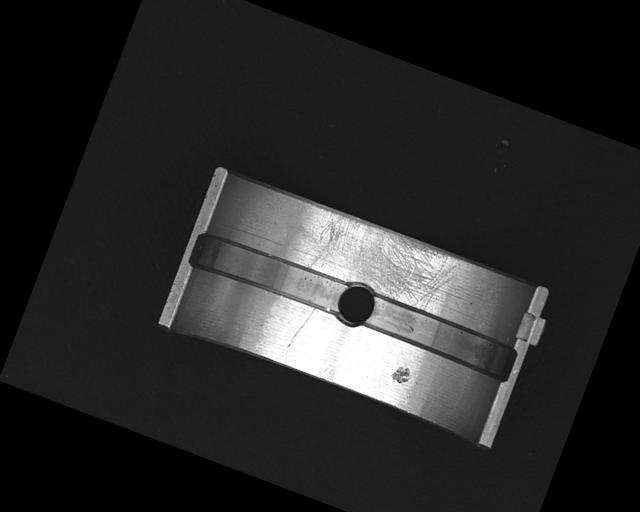bruise: (389, 362, 414, 387)
gap: (188, 228, 349, 319), (361, 293, 519, 382)
hole: (330, 277, 381, 331)
nick: (287, 303, 317, 352)
scratch: (291, 202, 460, 317)
